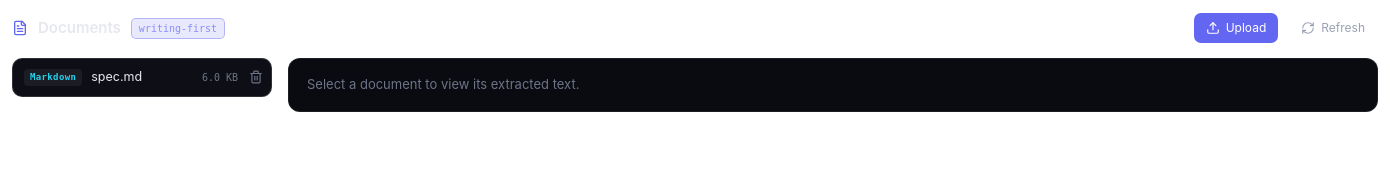
Test case: DocumentsPanel — 4 states (loading/error/empty/list) + viewer + upload/delete › viewer: extraction error surfaces a warning instead of empty text
Click the text "spec.md". click: (117, 76)
box: [91,69,142,84]
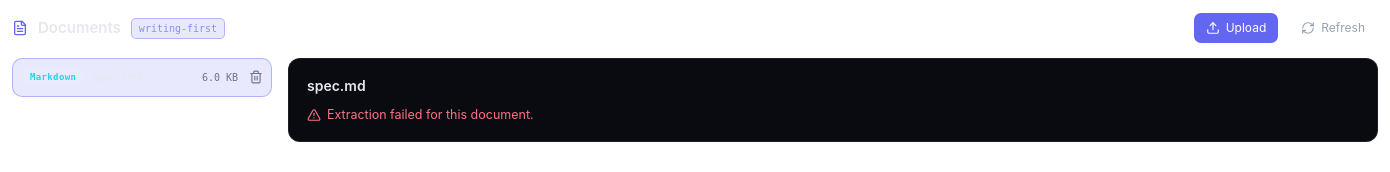
Check: the text "Extraction failed for this document." is shown, box [307,107,534,122]
